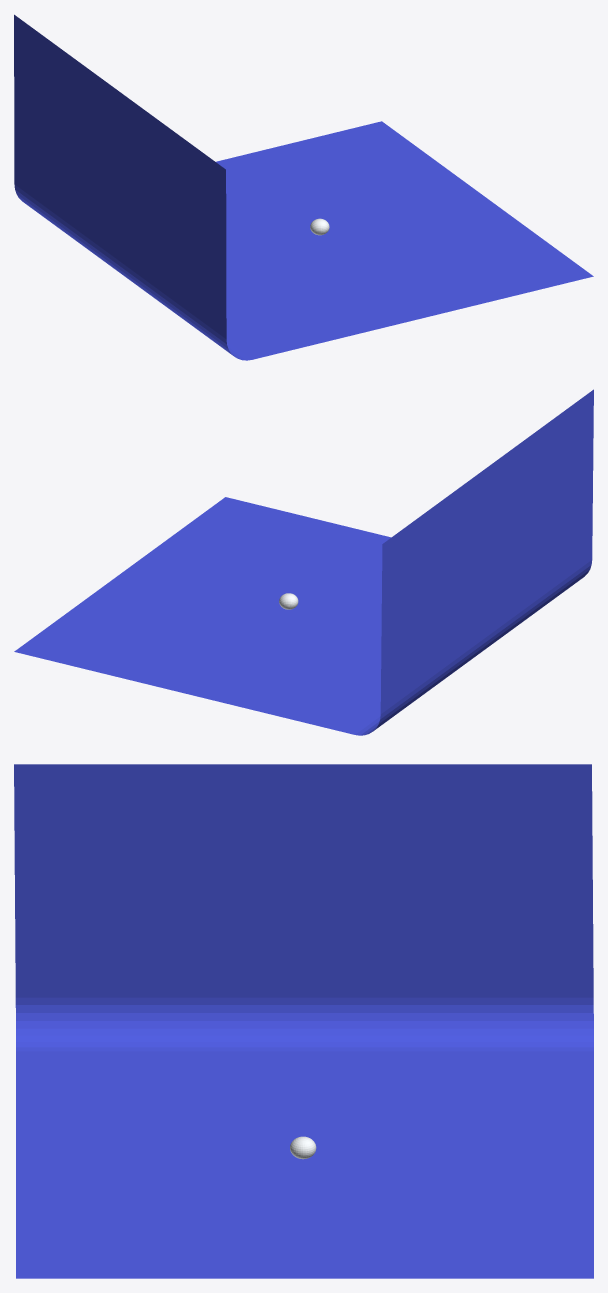
Rendered from animation1.glb.
3 renders of one model, top to bottom at view 1: azimuth 30°, elevation 25°; view 2: azimuth 150°, elevation 25°; view 3: azimuth 270°, elevation 25°, orthographic. The views are drawn at different scales.
Visible parts, largest first — view 1: Plane; view 2: Plane; view 3: Plane.
Part boxes in pixels (box(x1,y1,x2,y2)): Plane: box(14, 14, 593, 360); Plane: box(14, 389, 593, 735); Plane: box(14, 764, 593, 1278).
Size of the model in its own units: 43.87 by 22.44 by 43.87.
